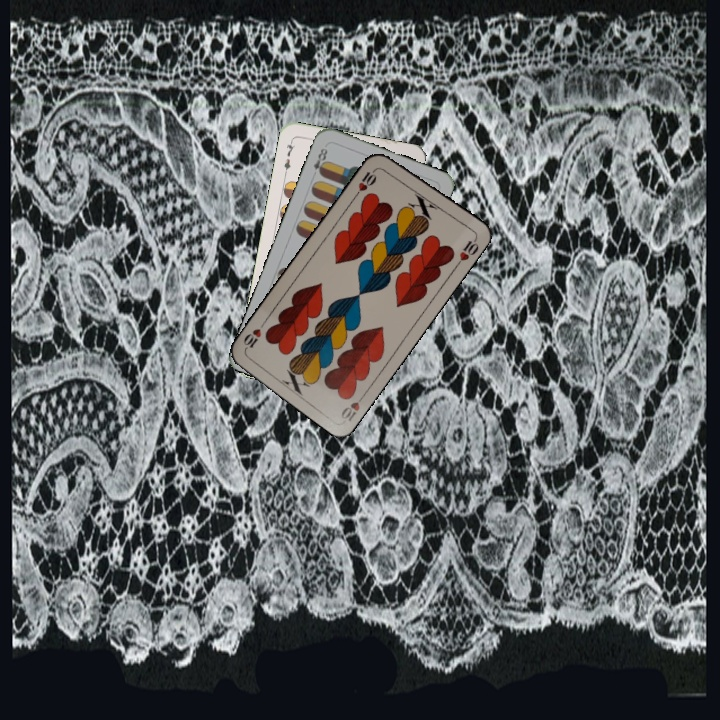E7: (280, 136, 297, 176)
E8: (308, 144, 330, 180)
H10: (337, 388, 369, 424), (351, 164, 381, 199)
